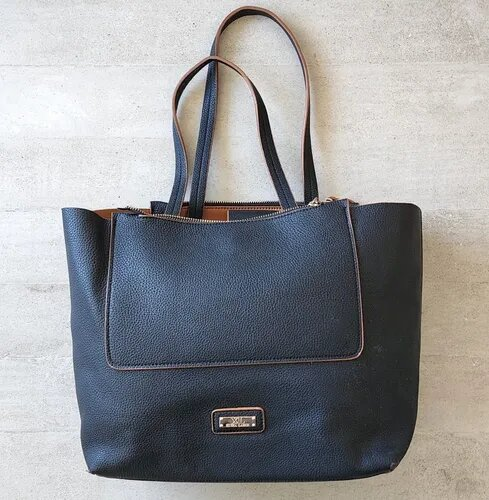cartera: (56, 4, 428, 494)
cuero: (59, 199, 427, 479)
